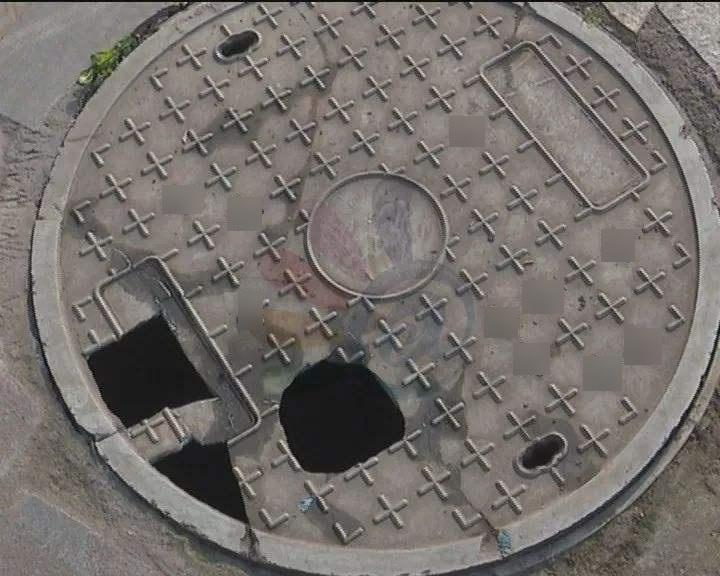wellcover: (10, 0, 720, 570)
